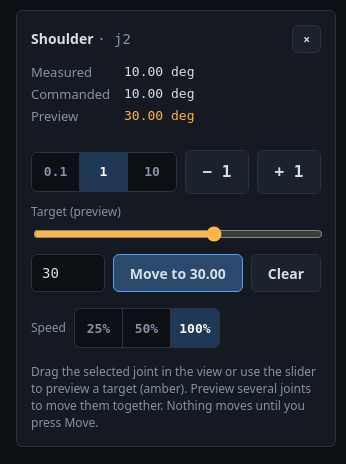
Test case: JointPanel › clears the preview
The image size is (346, 464).
Click the button "Clear" at (286, 273), box [251,254,321,292]
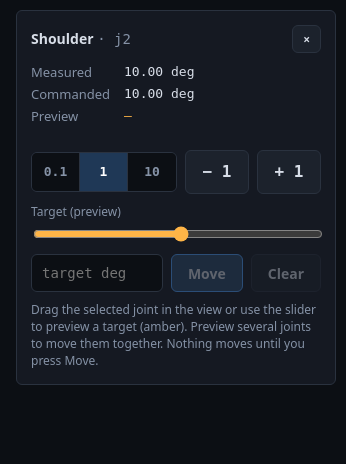
Expected: the button "Move" is disabled, [171,254,243,292]
Expected: the button "Clear" is disabled, [251,254,321,292]
